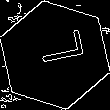L_W: (26, 34, 84, 76)
